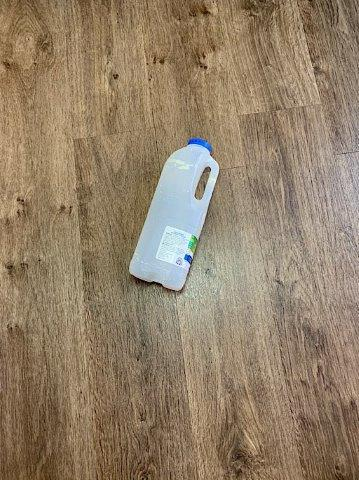botolplastik: (129, 141, 219, 290)
